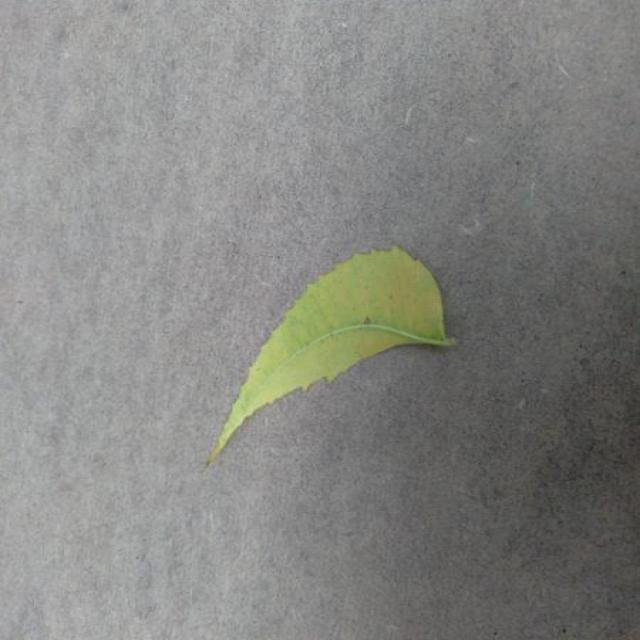neem: (207, 246, 453, 463)
